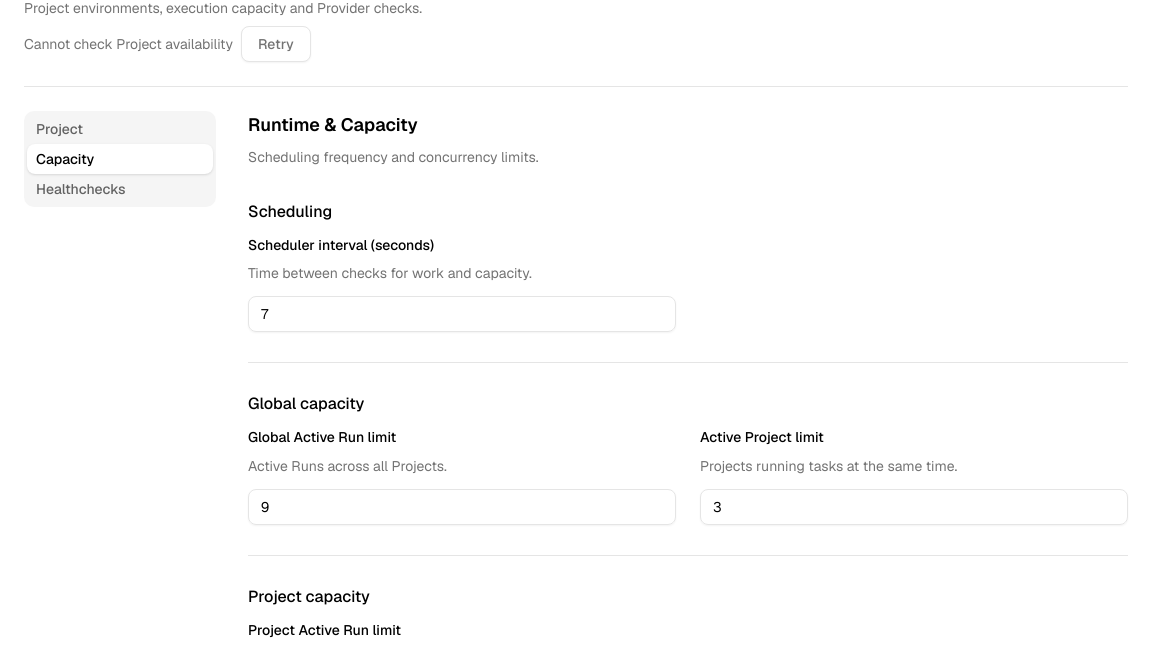
Test: saves only the runtime-capacity section against its captured complete configuration
This screenshot has width=1152, height=649.
Replace the text in the field labelled "Scheduler interval (seconds)" with "11" at {"x": 462, "y": 314}, box x1=248 y1=296 x2=676 y2=332
(page scrolled)
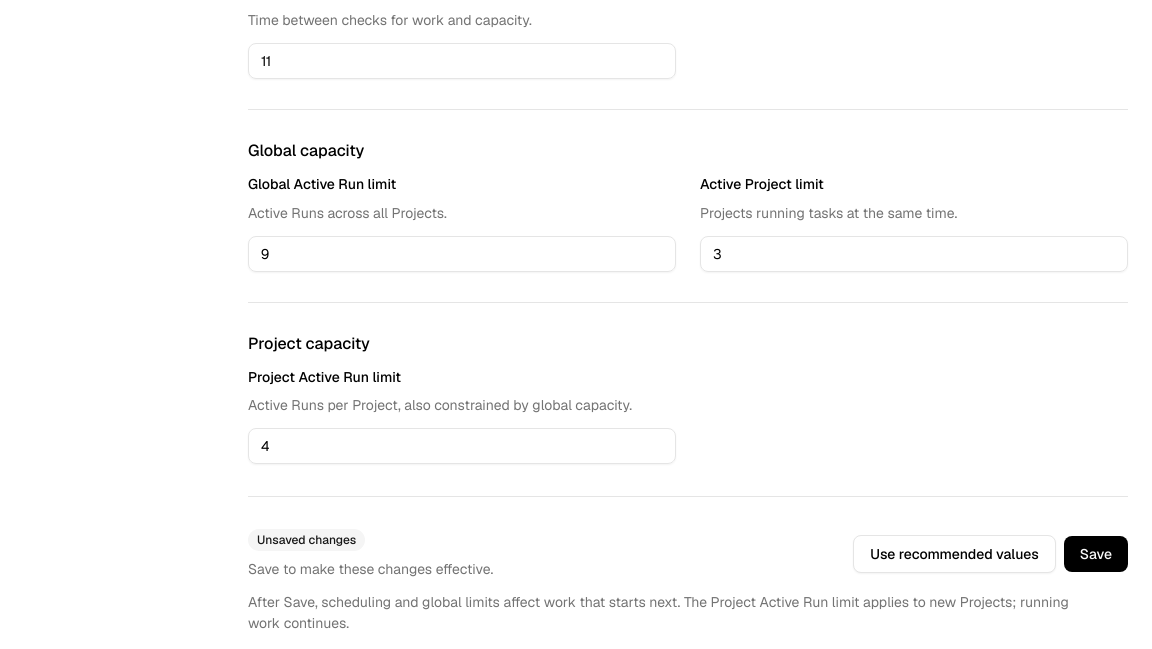
Click the button "Save".
click(1096, 554)  # box x1=1064 y1=536 x2=1128 y2=572
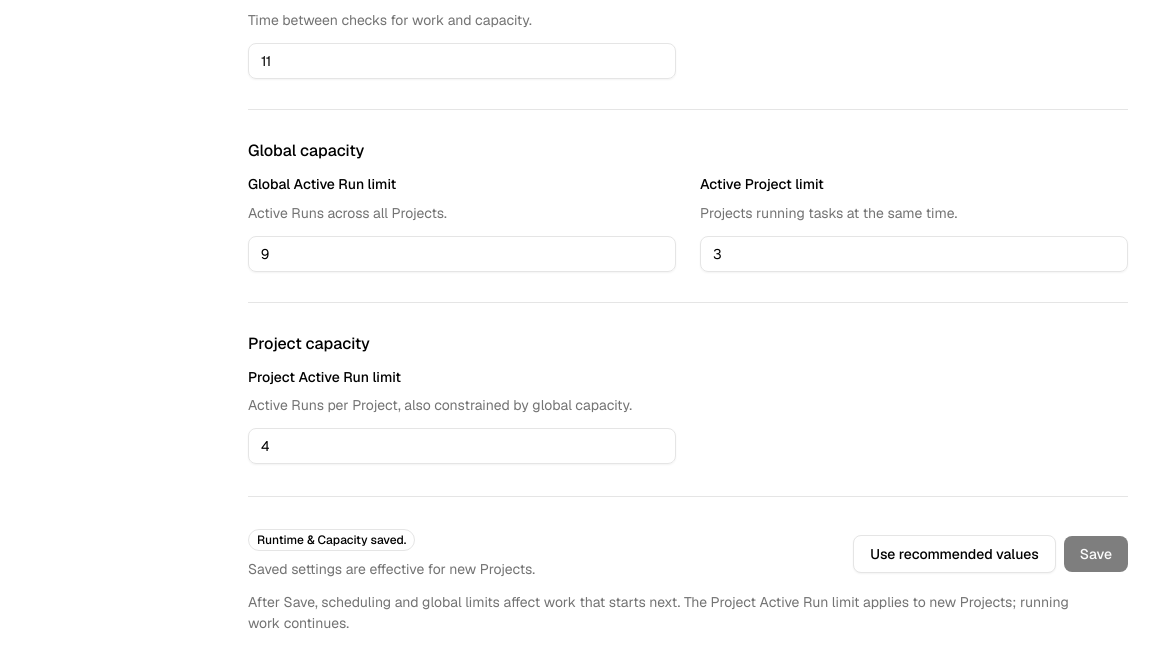
Expected: the button "Save" is disabled, x1=1064 y1=536 x2=1128 y2=572
